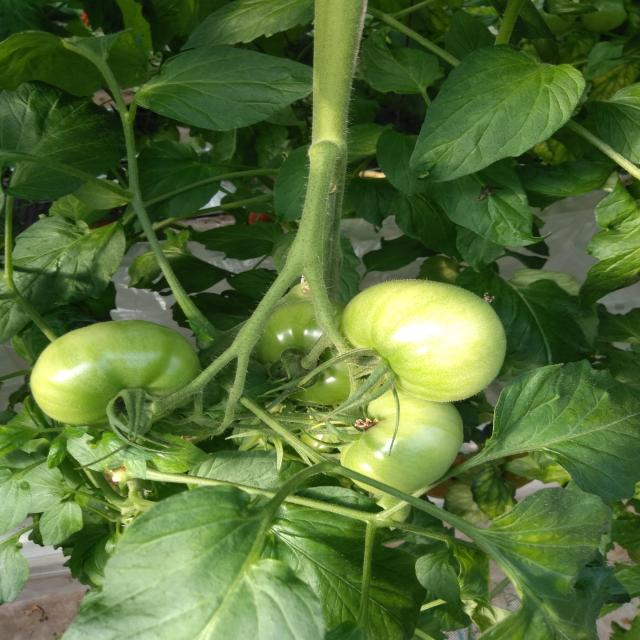yesil: (64, 242, 517, 546)
